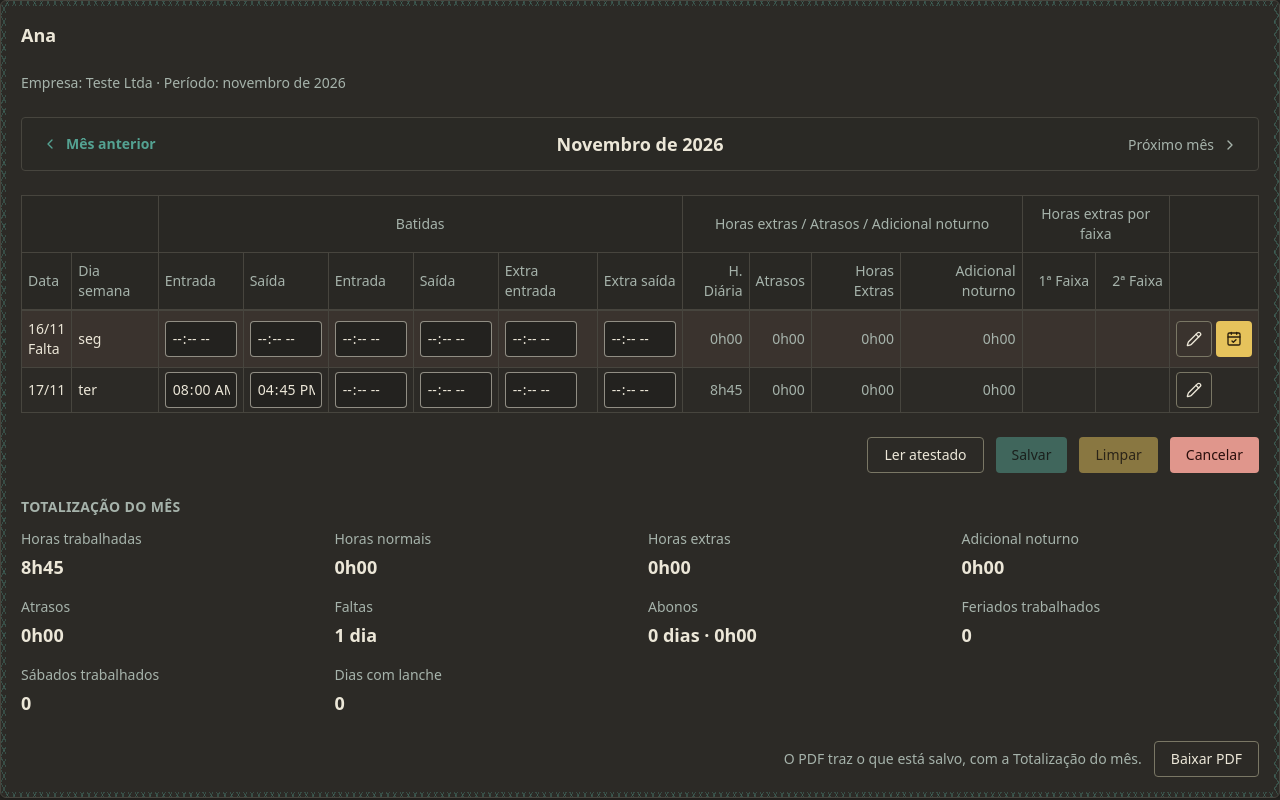
Test case: CartaoDePontoContainer › cancelar a linha volta ao estado de antes, com o lápis e o valor salvo
This screenshot has width=1280, height=800.
Click the button named "Editar seg 16/11": (1194, 339) [1176,321,1212,357]
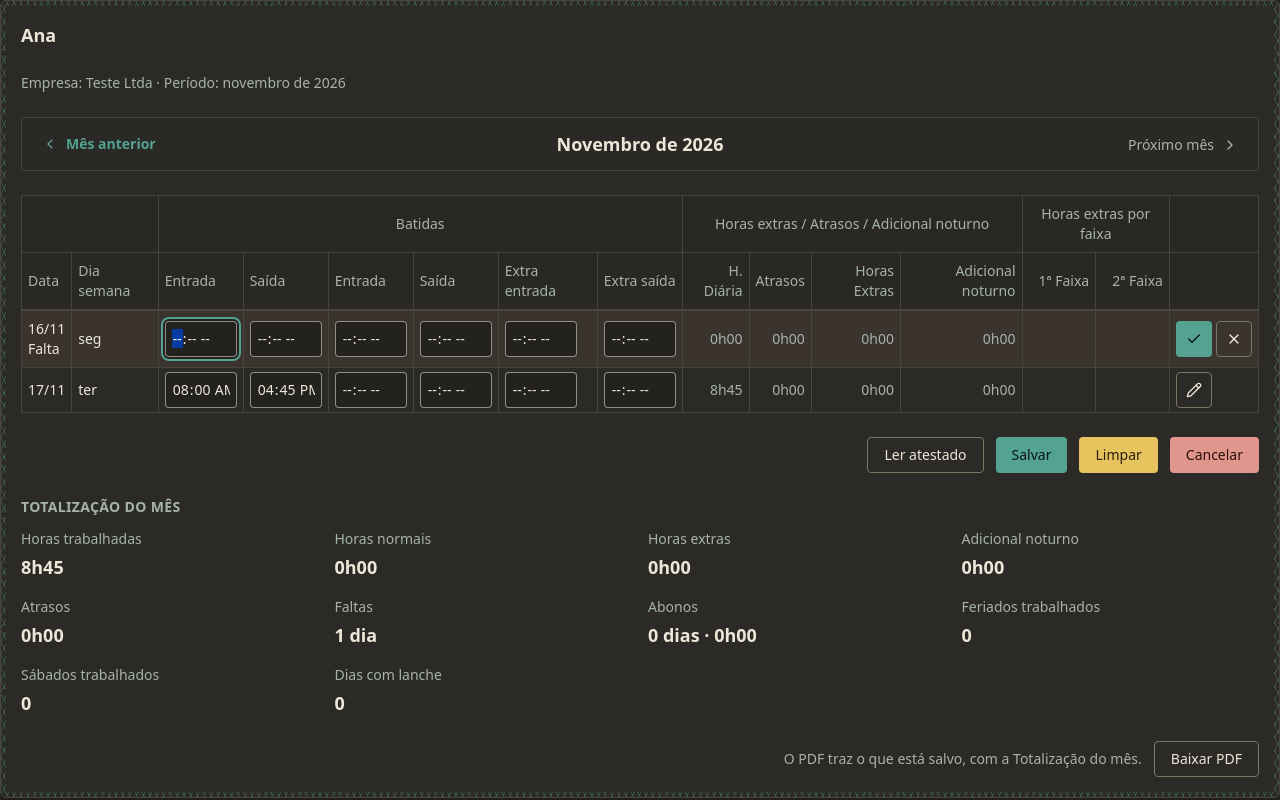
In the time field named "Entrada 1 de seg 16/11": (201, 339) [165,321,237,357], type "08:00"
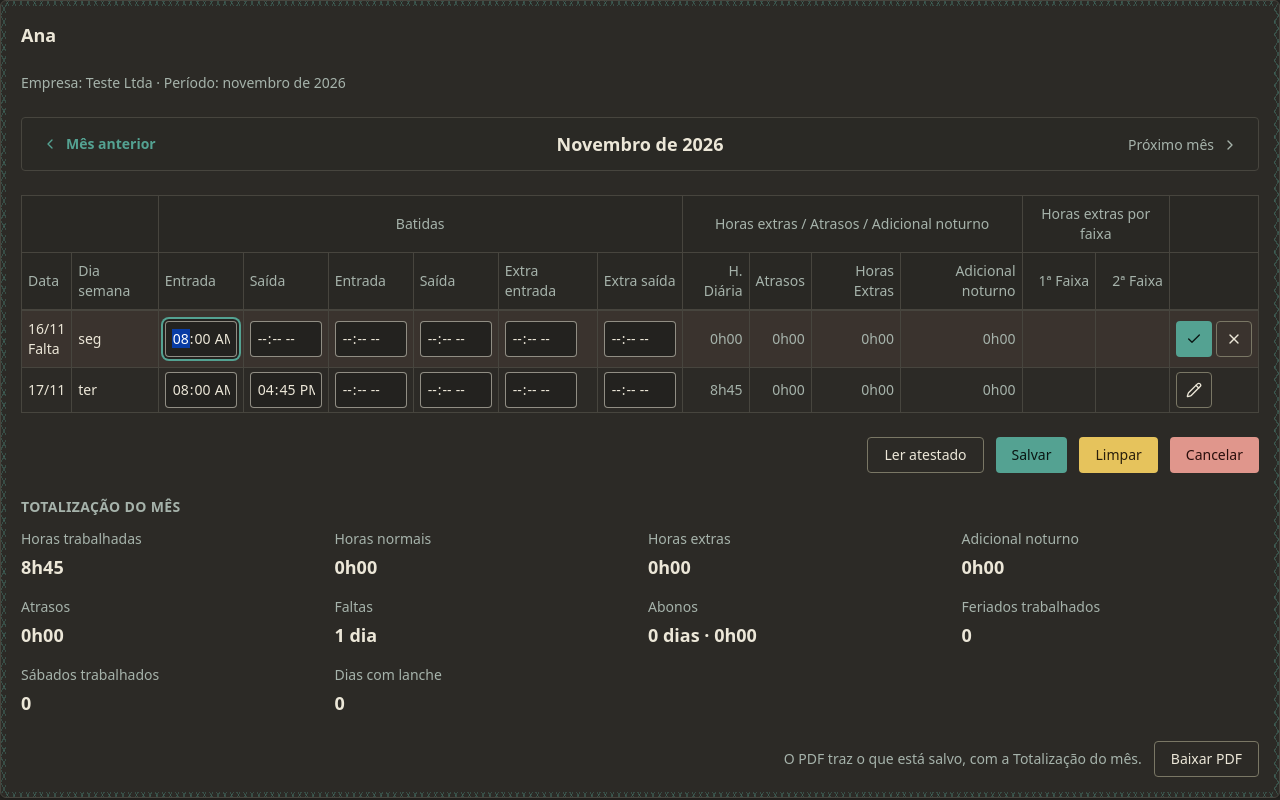
Click the button named "Cancelar edição de seg 16/11": (1234, 339) [1216,321,1252,357]
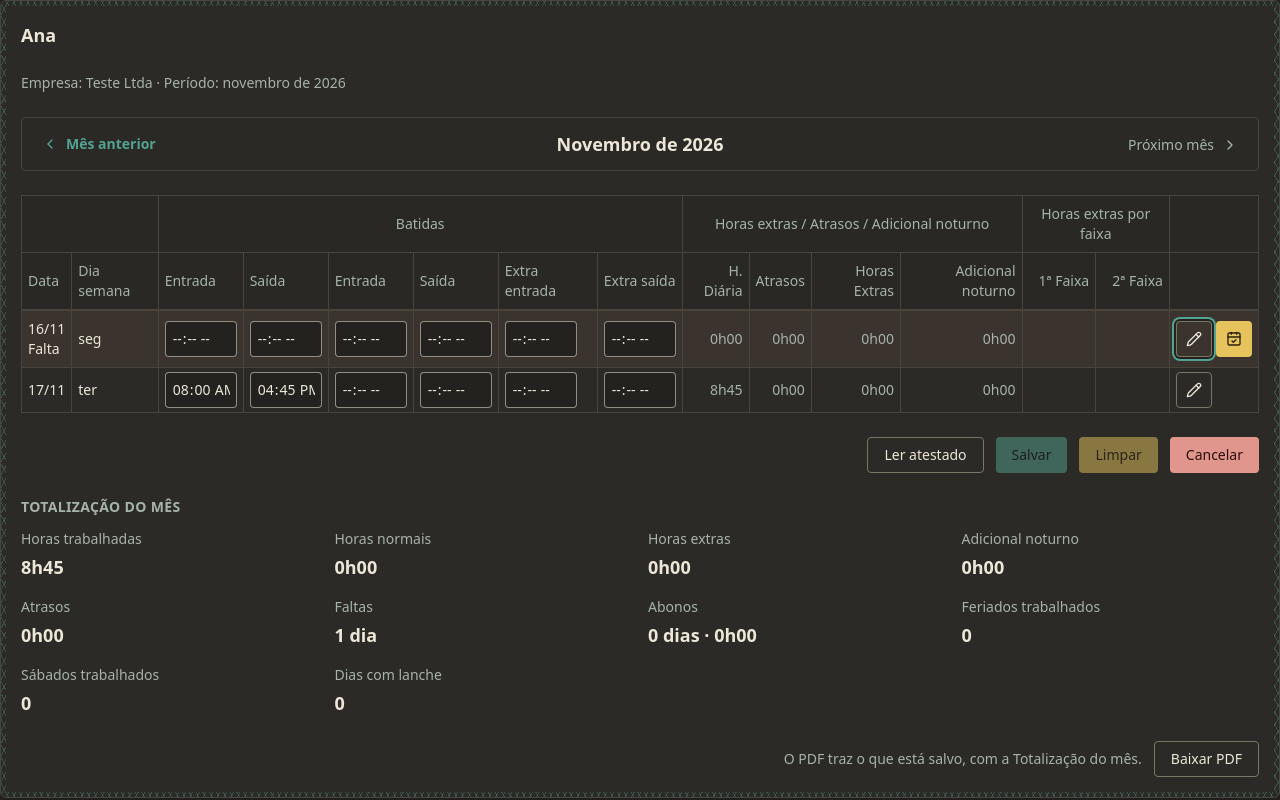
Result: the button named "Editar seg 16/11" is shown at [1176,321,1212,357]
Result: the time field named "Entrada 1 de seg 16/11" is empty at [165,321,237,357]
